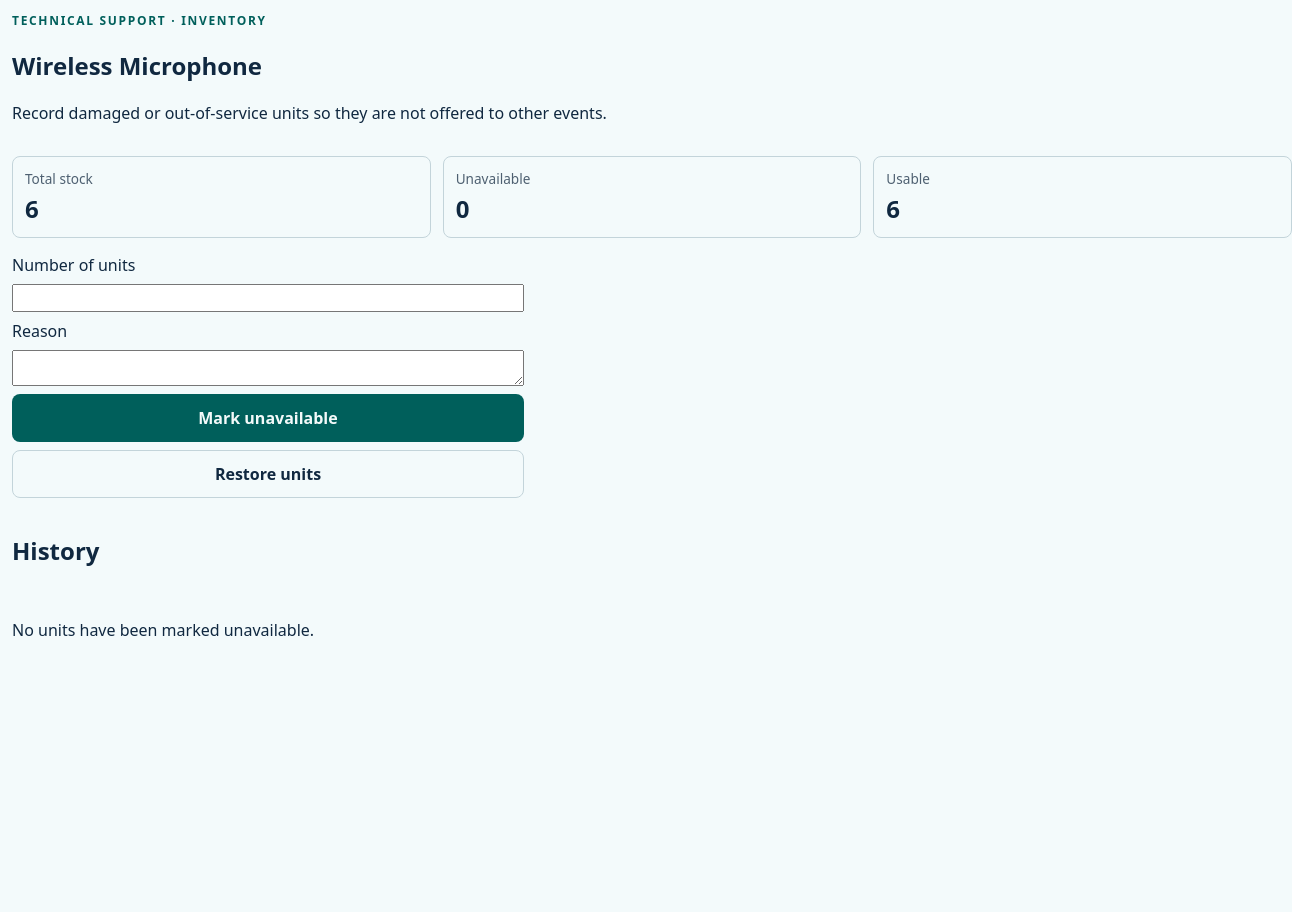
Scenario: [TC-SPL-96-08] shows the server refusal beside the fields and leaves the figures untouched
Expected: the heading "Wireless Microphone" is shown, [12,49,262,82]
Type "7" into the number field labelled "Number of units" at x=268, y=298, box [12,284,524,312]
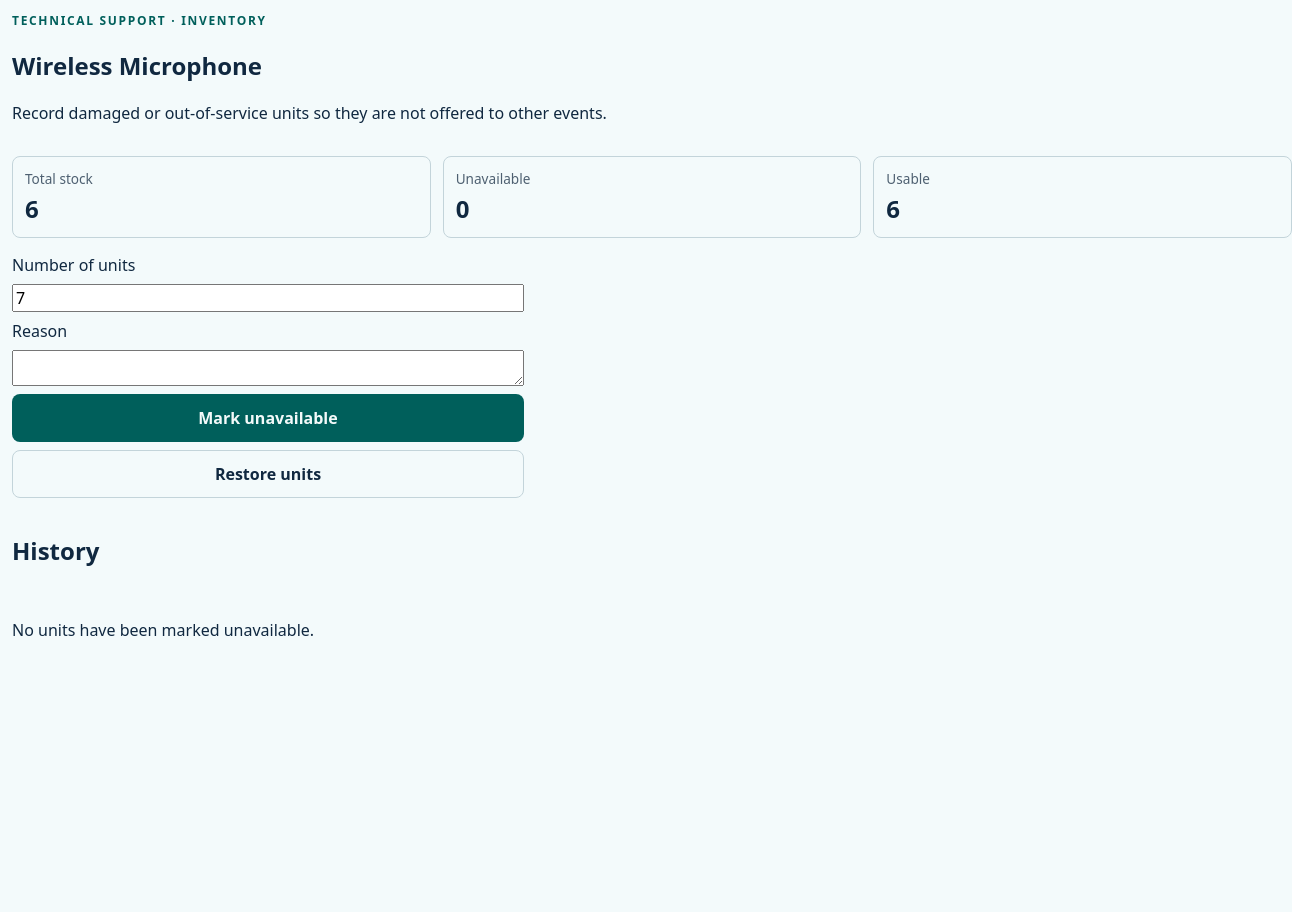
Type "Water damage in the store." into the text box labelled "Reason" at x=268, y=368, box [12,350,524,386]
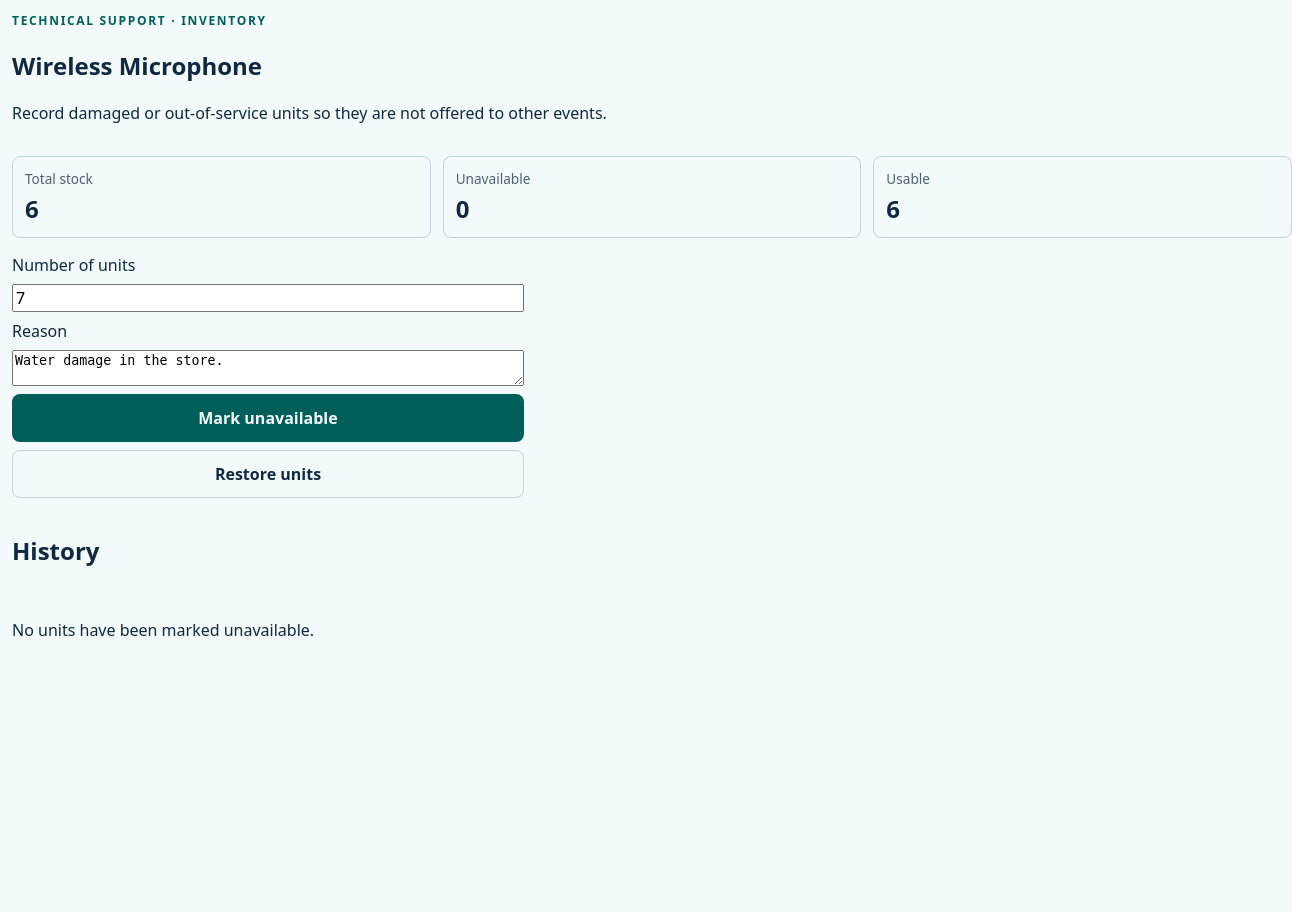
Click the button "Mark unavailable" at x=268, y=418, box [12,394,524,442]
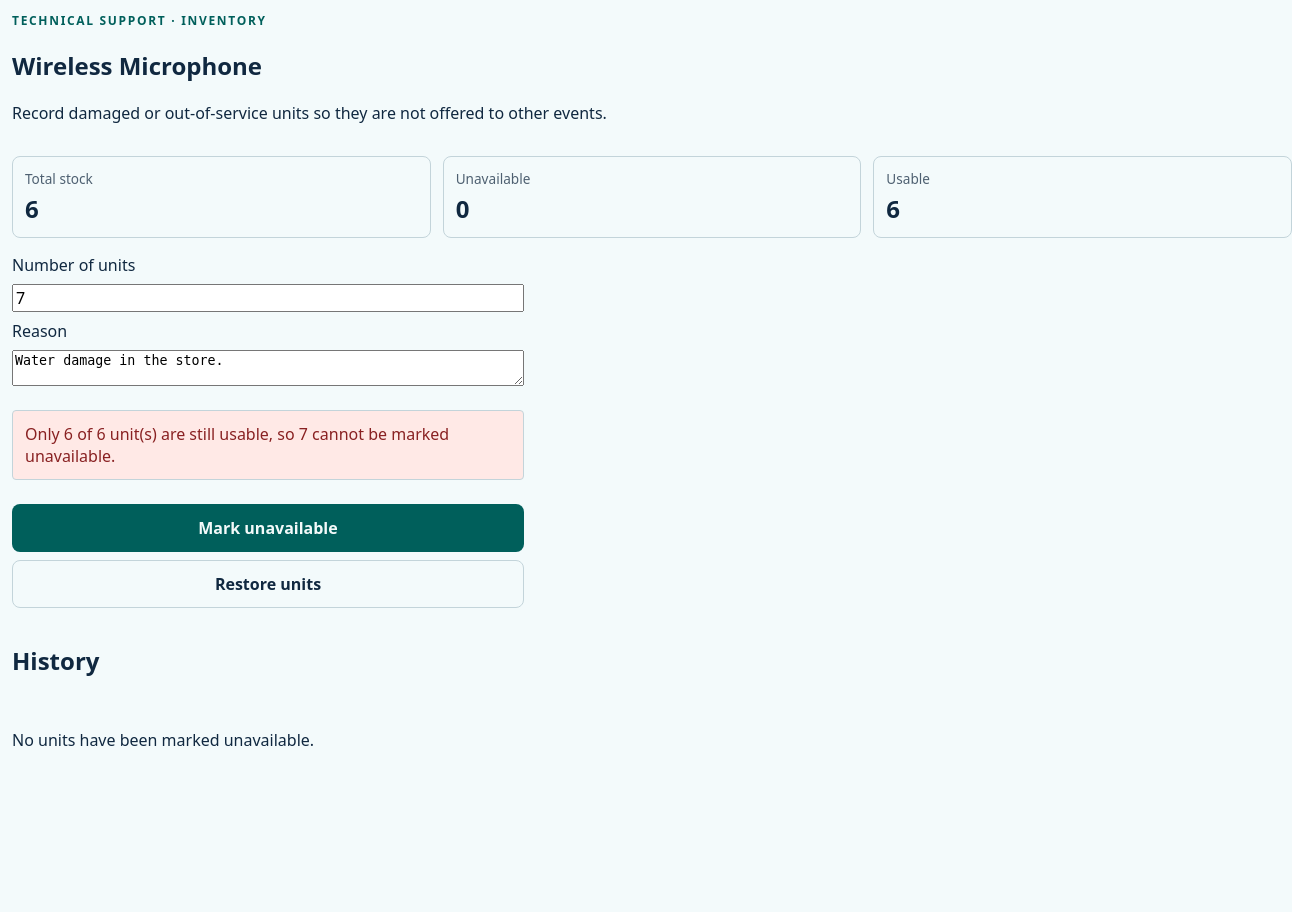
Expected: the text with test id "usable-stock" reads "6", [886,192,900,225]
Expected: the message shows "still usable", [25,423,449,467]
